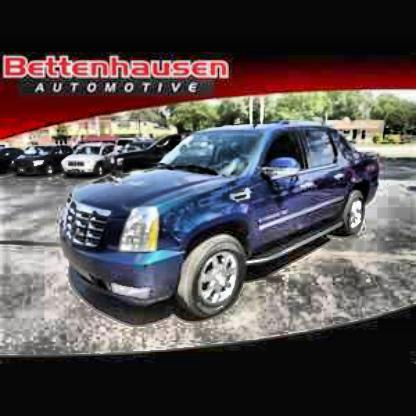Cadillac Escalade EXT Crew Cab 2007: (58, 118, 381, 323)
